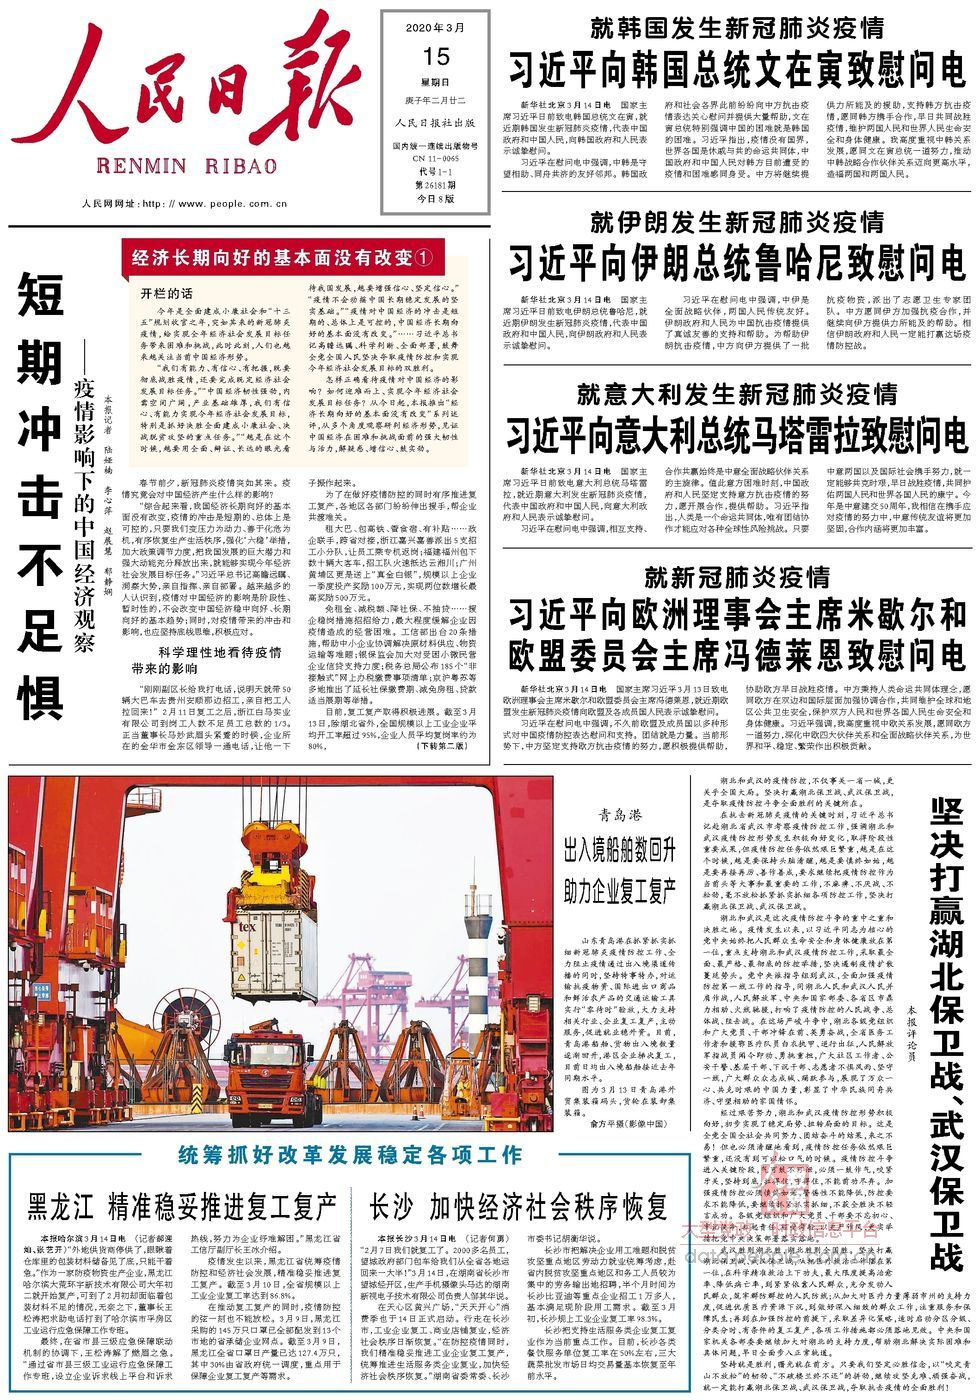pic: (3, 772, 559, 1137)
